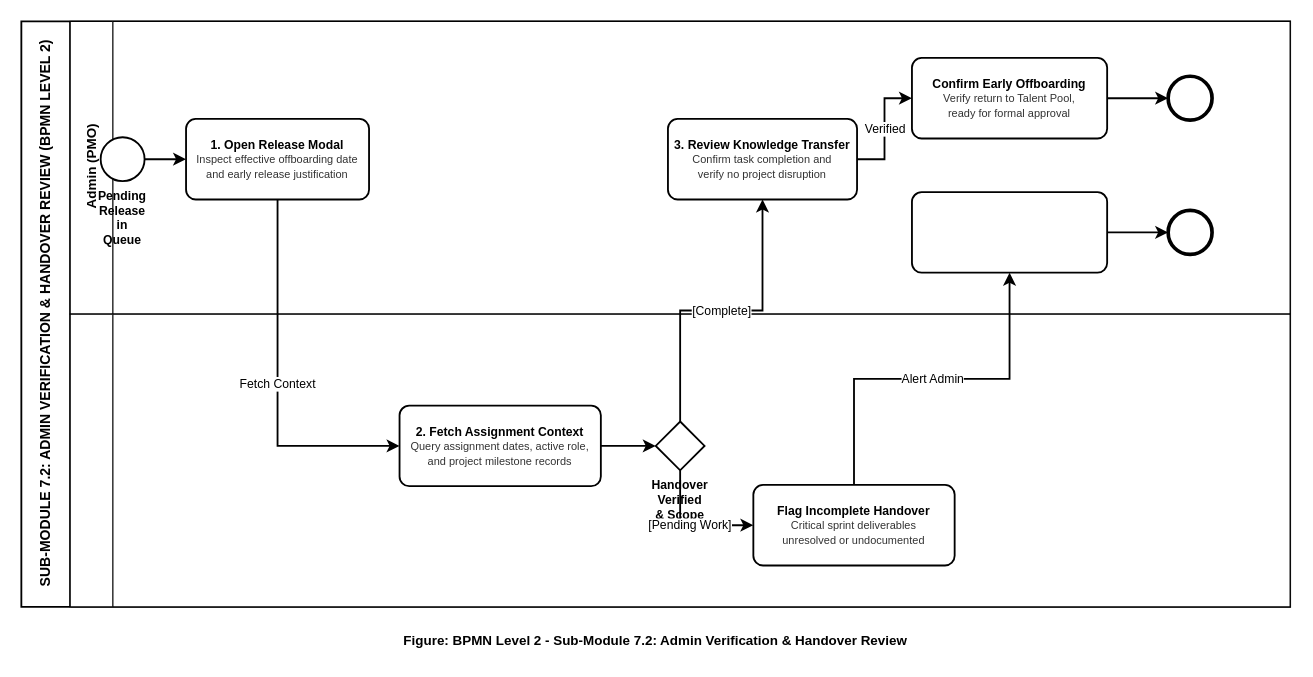
The diagram is 1313 pixels wide and 677 high, and some of its shapes have lost their labels. Each missing label, with the box of its shape:
Flag Handover Discrepancy Record incomplete transfer for rejection justification: (910, 191, 1108, 273)
Proceed to Approval Flow: (1166, 74, 1213, 121)
Proceed to Rejection Flow: (1166, 208, 1213, 256)
RMS Backend Engine: (69, 313, 1290, 607)
